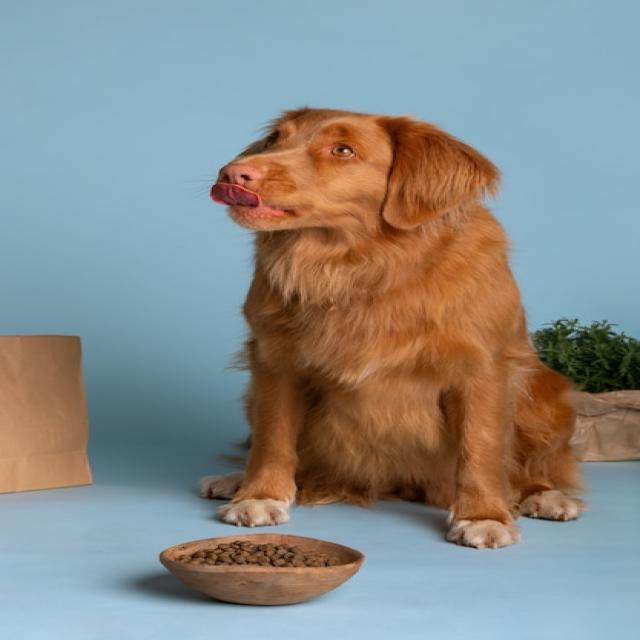Dog: (202, 106, 585, 547)
